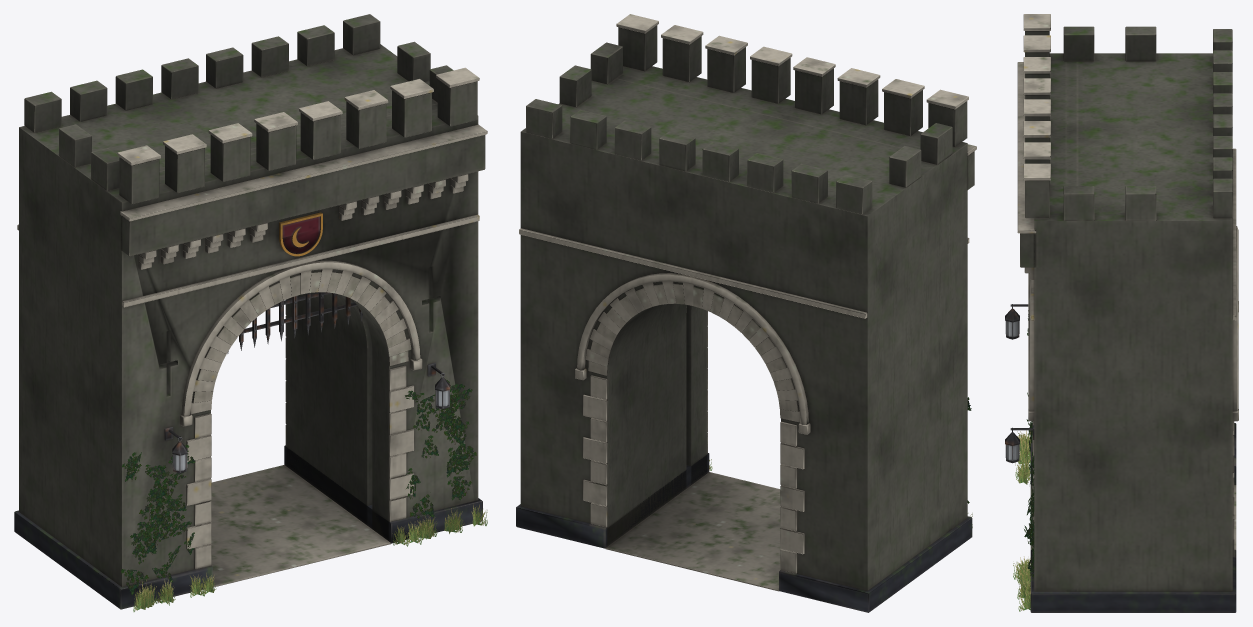
File: GatehouseArch.fbx
The picture shows the model from 3 angles, left to right: view 1: azimuth 30°, elevation 25°; view 2: azimuth 150°, elevation 25°; view 3: azimuth 270°, elevation 25°; orthographic projection. The views are drawn at different scales.
Visible parts, largest first — view 1: GatehouseArch_Main, GatehouseArch_Leaves, GatehouseArch_Portcullis; view 2: GatehouseArch_Main; view 3: GatehouseArch_Main, GatehouseArch_Leaves, GatehouseArch_Glass.
Boxes of the visible parts, x1,y1,x2,y2 form: GatehouseArch_Main: [14, 14, 487, 609]; GatehouseArch_Leaves: [121, 380, 487, 611]; GatehouseArch_Portcullis: [227, 292, 362, 353]; GatehouseArch_Main: [516, 14, 976, 612]; GatehouseArch_Main: [1005, 14, 1238, 612]; GatehouseArch_Leaves: [1013, 310, 1034, 611]; GatehouseArch_Glass: [1005, 321, 1019, 460].
Bounding box in the file's own units: 1630 × 1924 × 943.
